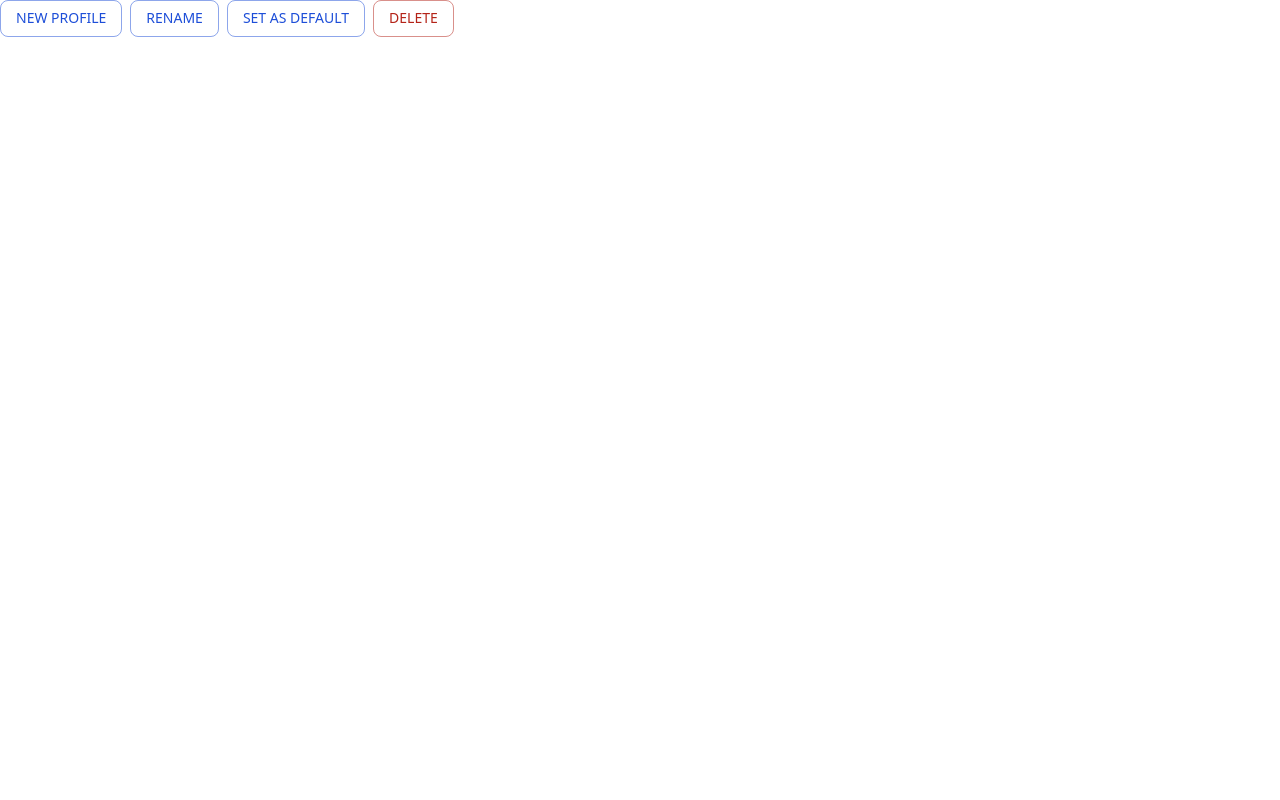
Scenario: ProfileManager, delete › deletes another profile after confirming, and goes back to the prompts
Click the button "Delete".
click(413, 18)  # box [373,0,454,36]
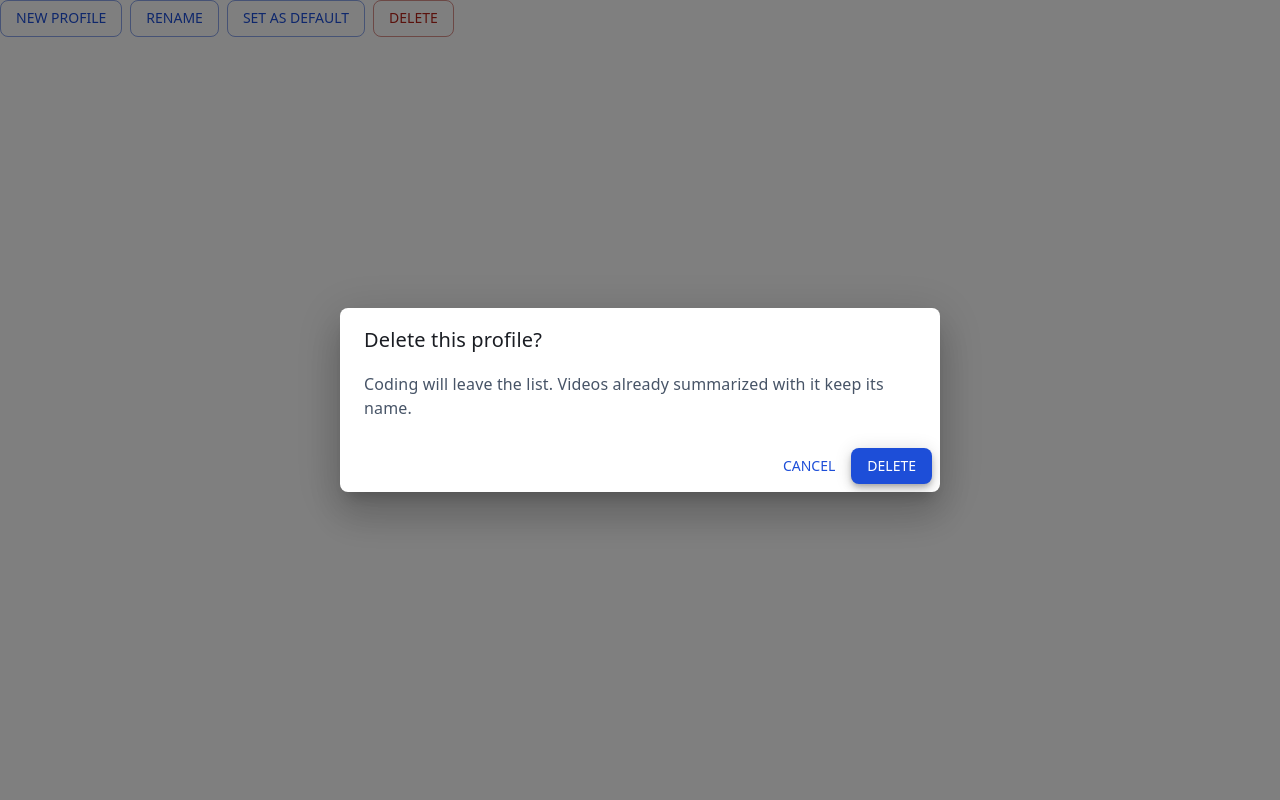
expect the dialog "Delete this profile?" shows "Coding": met, box [364,373,884,419]
Click the button "Delete".
click(892, 466)  # box [851,448,932,484]
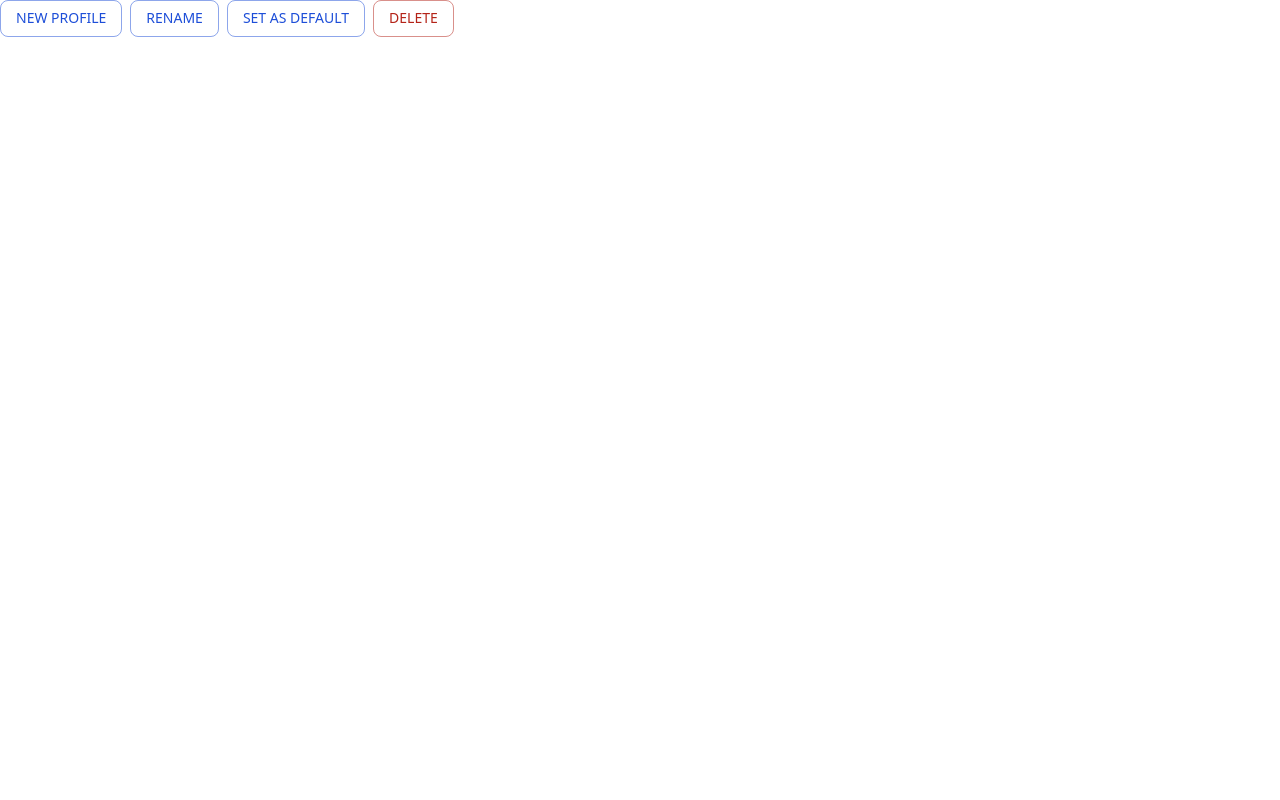
expect the dialog is gone: met
